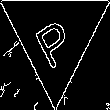P_NW: (30, 6, 80, 68)
